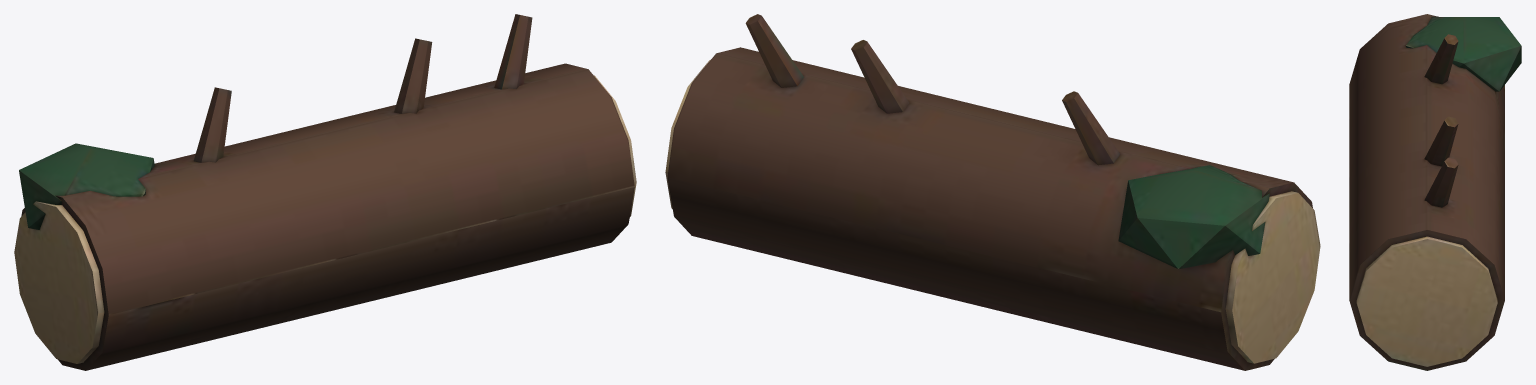
File: tronco_caido.glb
The picture shows the model from 3 angles, left to right: view 1: azimuth 30°, elevation 25°; view 2: azimuth 150°, elevation 25°; view 3: azimuth 270°, elevation 25°; orthographic projection. The views are drawn at different scales.
Visible parts, largest first — view 1: tronco_caido; view 2: tronco_caido; view 3: tronco_caido.
Boxes of the visible parts, x1=… form: tronco_caido: x1=14, y1=14, x2=636, y2=370; tronco_caido: x1=665, y1=14, x2=1320, y2=370; tronco_caido: x1=1349, y1=14, x2=1521, y2=370.
Bounding box in the file's own units: 2.18 × 0.8637 × 0.7082.
1 material, 1 textured.
